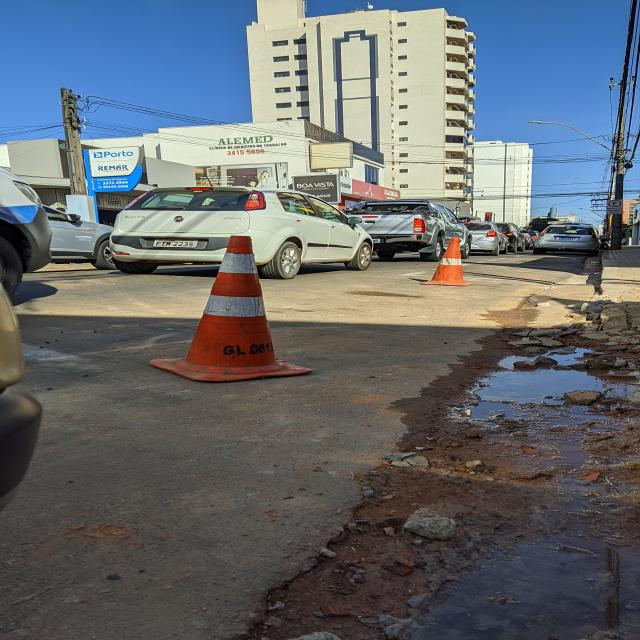cone: (142, 232, 316, 386), (417, 234, 474, 288)
